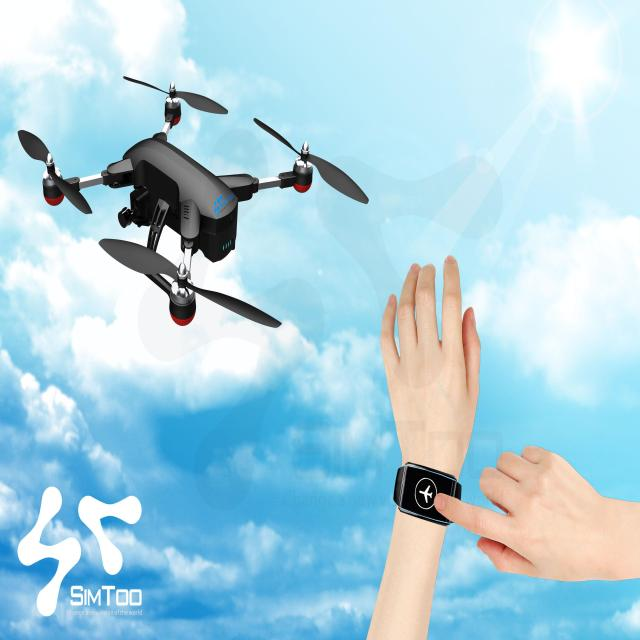drone: (16, 66, 376, 332)
